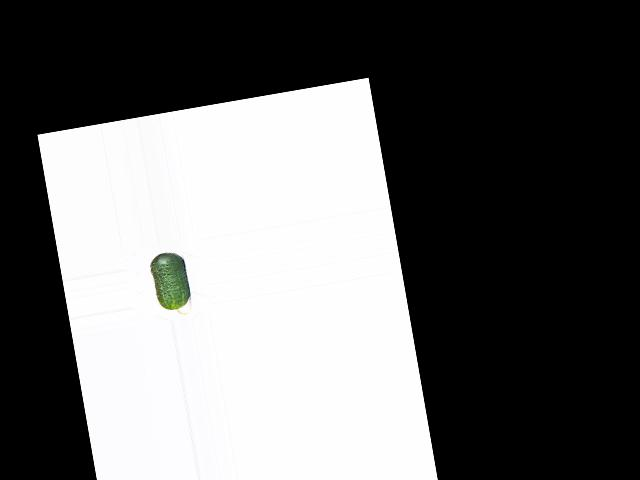cucumber: (149, 250, 193, 318)
